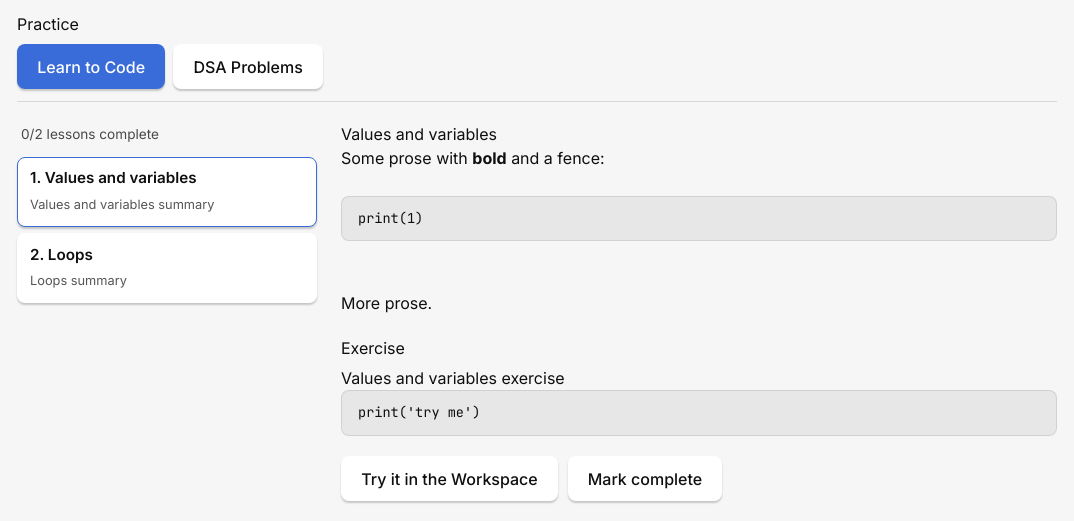
PracticeView — Learn tab › lists lessons and marks one complete
Check: the text "1. Values and variables" is shown, box [30,166,197,190]
Check: the text "0/2 lessons complete" is shown, box [21,126,159,142]
Click the button "Mark complete" at [645, 479], box [568,456,722,501]
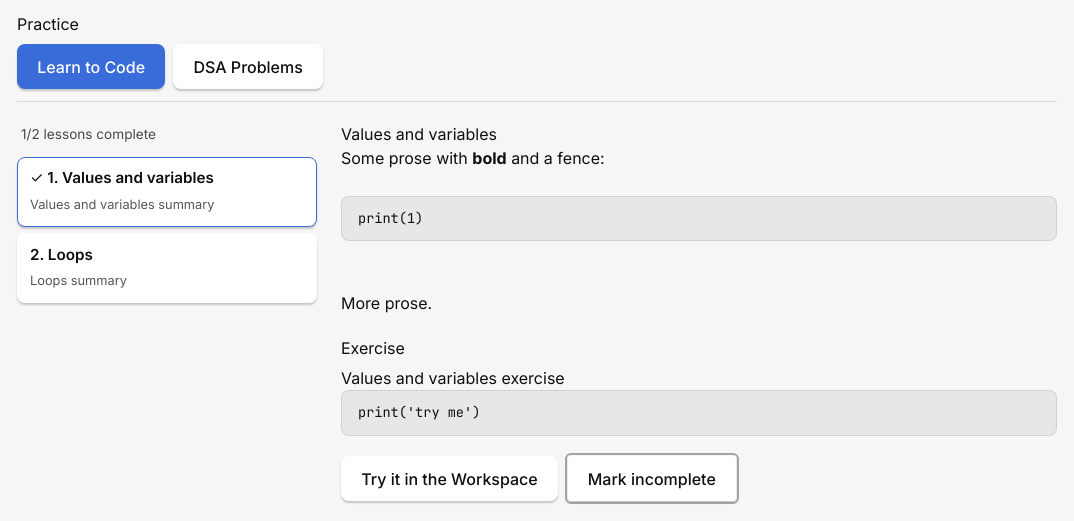
Check: the text "1/2 lessons complete" is shown, box [21,126,156,142]
